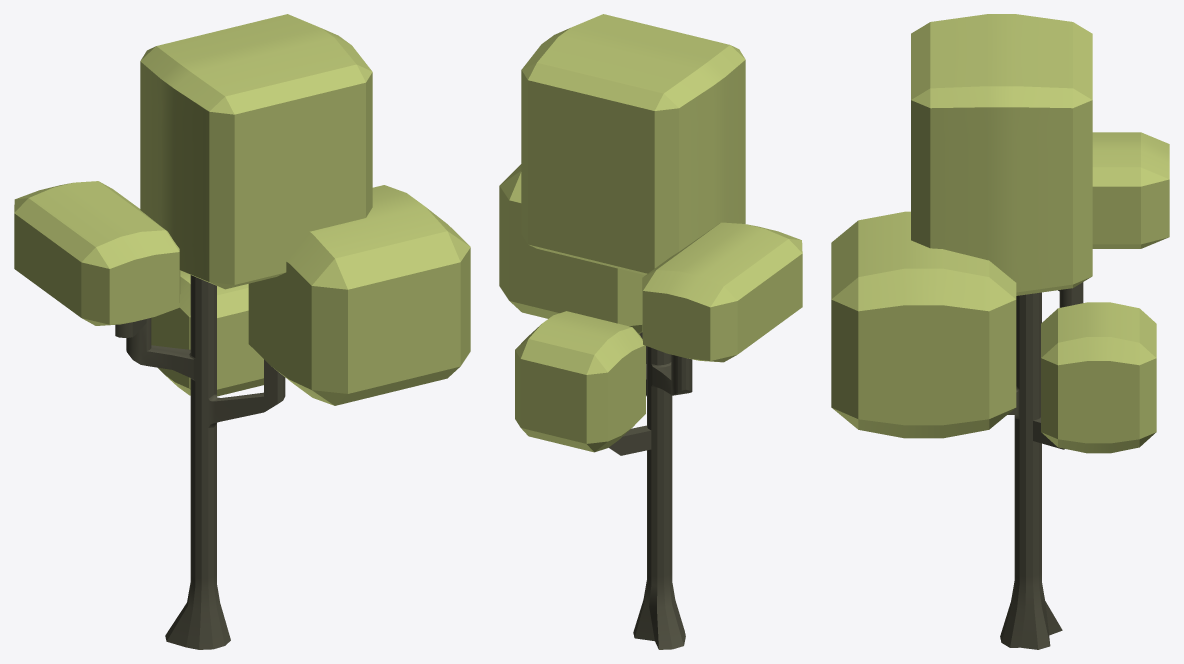
Rendered from HighTree2.fbx.
3 renders of one model, left to right at view 1: azimuth 30°, elevation 25°; view 2: azimuth 150°, elevation 25°; view 3: azimuth 270°, elevation 25°, orthographic. The views are drawn at different scales.
Parts seen in each view (by area): view 1: Crown_Big1, Crown_Sml3, Crown_Sml1, Bark2, Crown_Sml2; view 2: Crown_Big1, Crown_Sml1, Crown_Sml2, Crown_Sml3, Bark2; view 3: Crown_Big1, Crown_Sml3, Crown_Sml2, Bark2, Crown_Sml1.
Boxes of the visible parts, box(x1,y1,x2,y2) form: Crown_Big1: box(140, 14, 372, 289); Crown_Sml3: box(248, 185, 470, 405); Crown_Sml1: box(14, 181, 180, 325); Bark2: box(115, 275, 285, 649); Crown_Sml2: box(151, 270, 263, 396); Crown_Big1: box(521, 14, 745, 275); Crown_Sml1: box(642, 222, 802, 362); Crown_Sml2: box(515, 311, 645, 452); Crown_Sml3: box(499, 164, 645, 333); Bark2: box(608, 332, 692, 649); Crown_Big1: box(911, 14, 1092, 295); Crown_Sml3: box(831, 211, 1016, 438); Crown_Sml2: box(1041, 302, 1156, 453); Bark2: box(1000, 282, 1083, 649); Crown_Sml1: box(1092, 132, 1169, 248).
Size of the model in its own units: 3.9 by 6.84 by 3.44.
